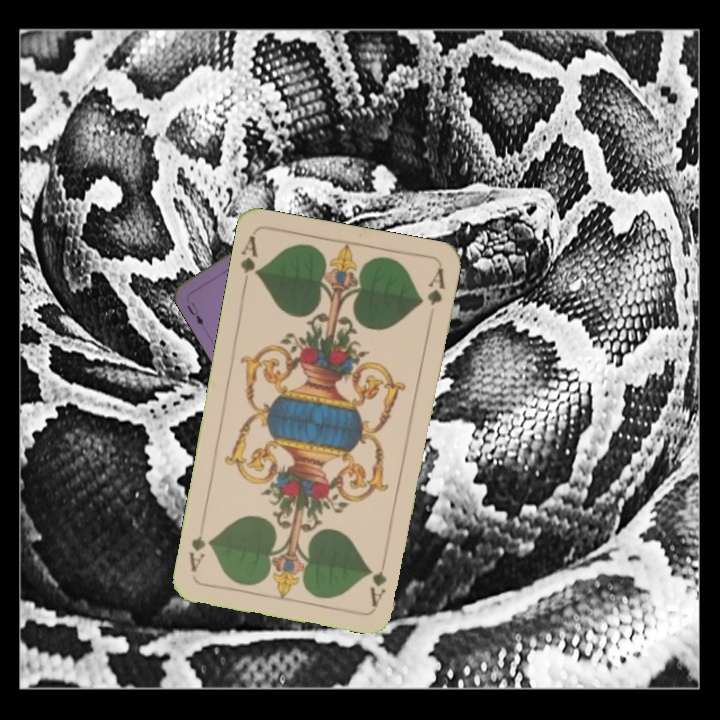EU: (183, 298, 206, 328)
GA: (236, 231, 263, 291), (366, 551, 390, 609)
